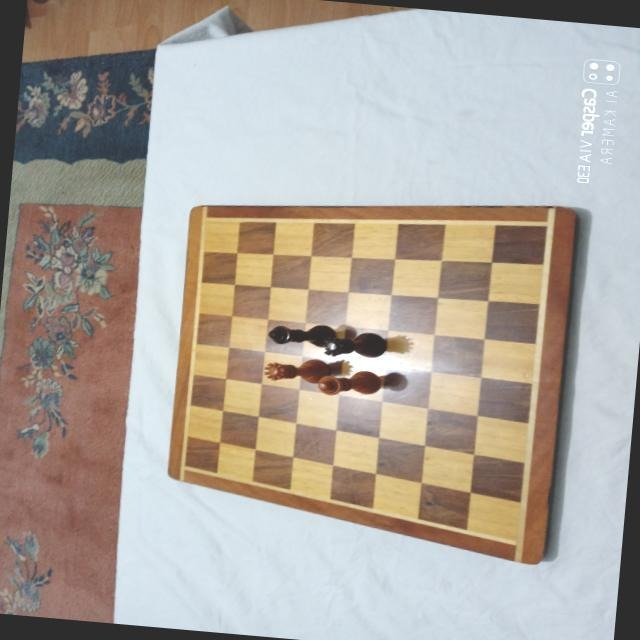black-king: (267, 319, 337, 349)
black-queen: (318, 327, 386, 361)
white-king: (316, 365, 382, 398)
white-queen: (262, 352, 330, 384)
